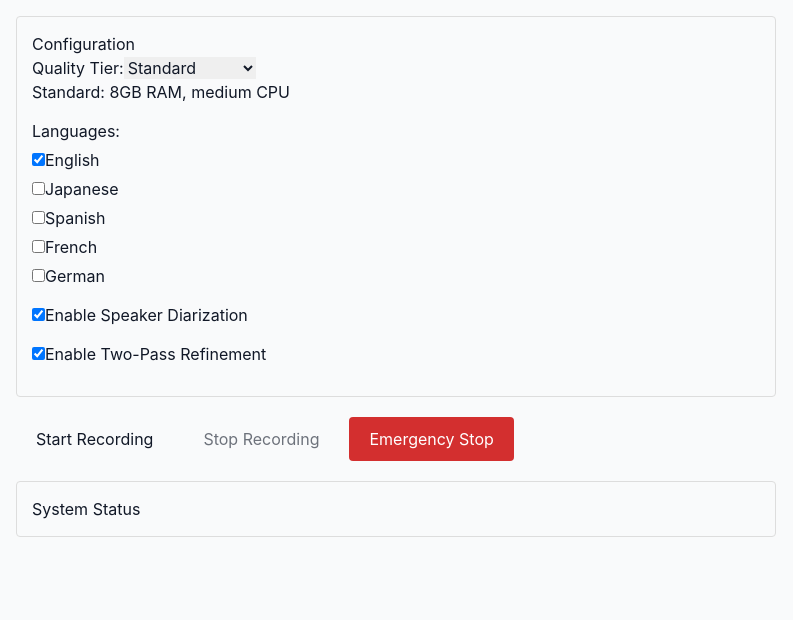
Test case: TranscriptionController Component › Transcription Session Management › should handle transcription start failures gracefully
Click the button with test id "start-recording-button".
click(95, 439)  # box top-left (16, 417), bottom-right (173, 461)
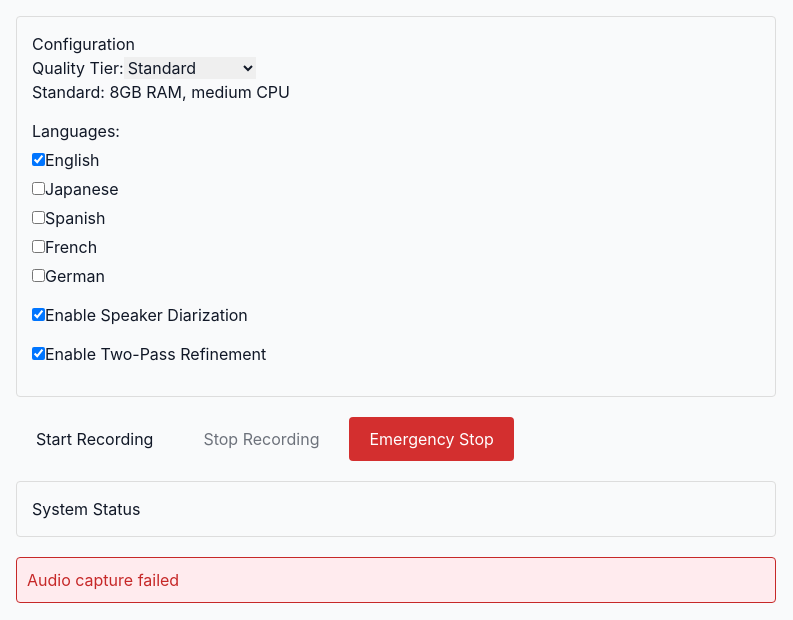
Now the text "Audio capture failed" is shown, box top-left (16, 557), bottom-right (776, 603)
